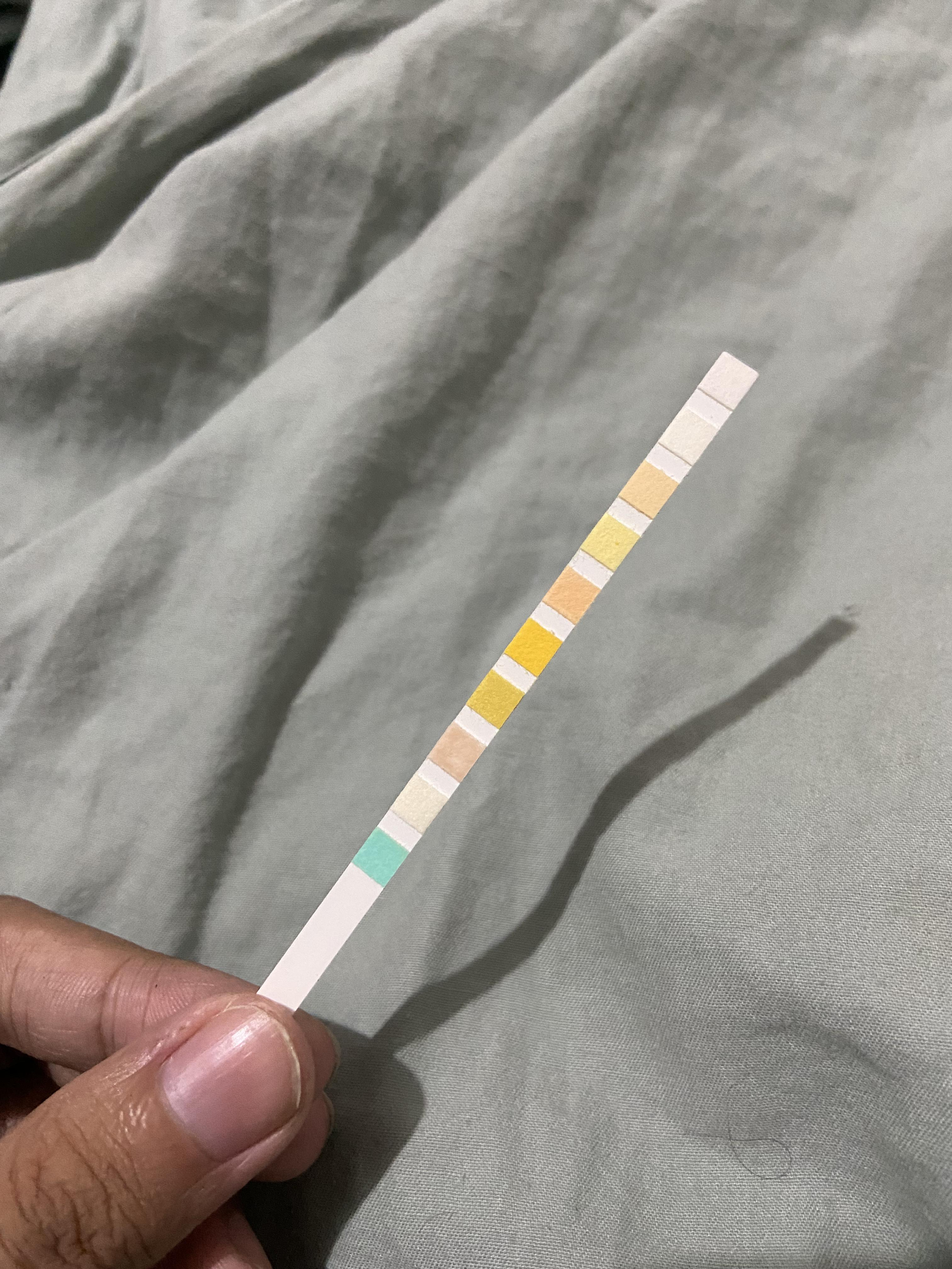Bilirubin: (403, 792, 435, 818)
Blood: (517, 636, 551, 661)
Glucose: (366, 846, 395, 871)
Ketone: (440, 741, 473, 766)
Leukocytes: (714, 370, 746, 395)
Nitrite: (673, 422, 707, 450)
Protein: (594, 529, 627, 556)
SpGravity: (480, 688, 509, 713)
Urobilinogen: (634, 478, 666, 502)
pH: (557, 583, 588, 608)
strip: (262, 353, 757, 1009)
